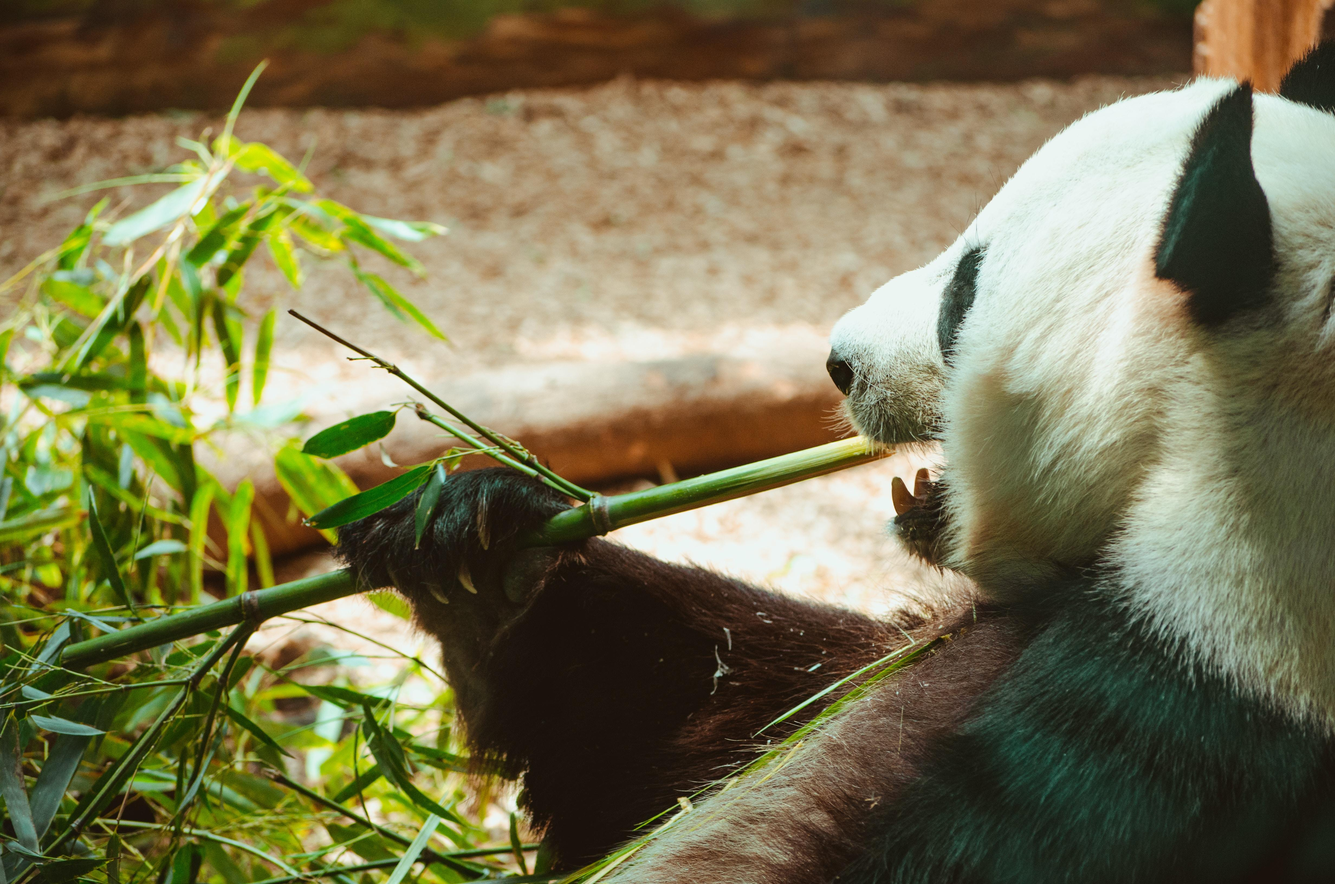panda: (349, 69, 1335, 884)
